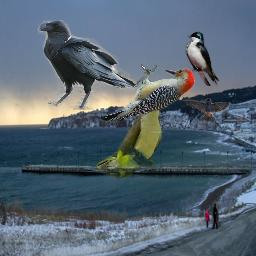Crow: (37, 20, 137, 110)
Cuckoo: (97, 91, 172, 180)
Swallow: (185, 31, 219, 86), (182, 98, 231, 121)
Woodpecker: (101, 64, 196, 123)
